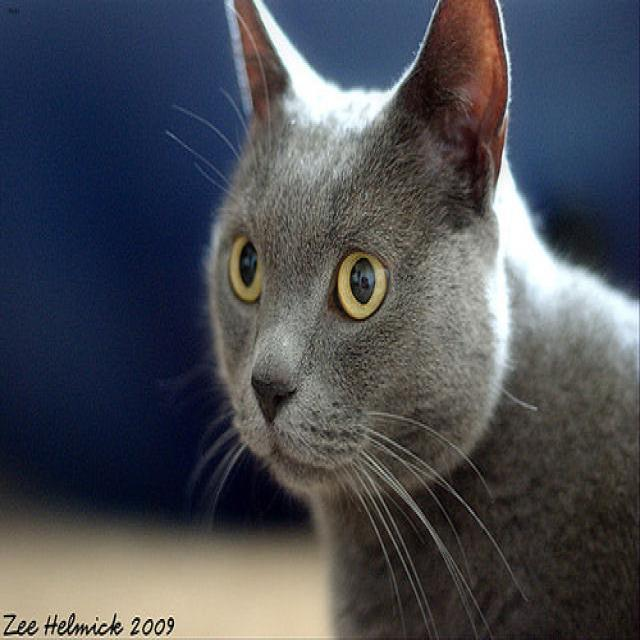British_Shorthair: (196, 0, 524, 506)
